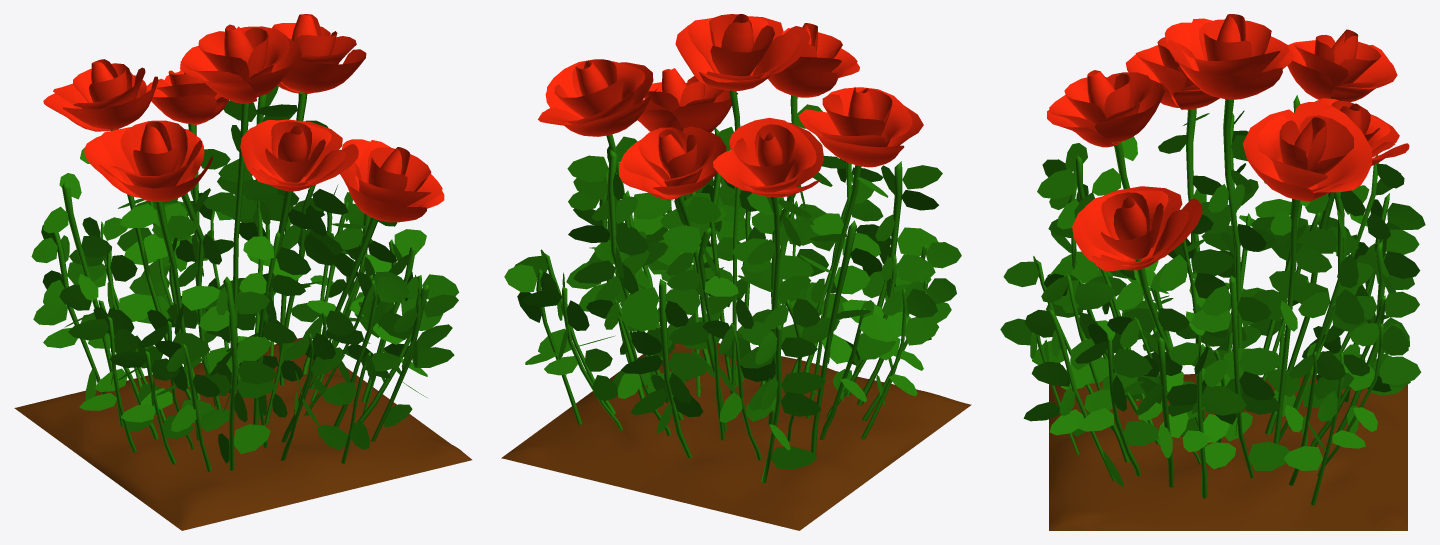
File: red-rose.glb
3 views of the same model, side by side, from view 1: azimuth 30°, elevation 25°; view 2: azimuth 150°, elevation 25°; view 3: azimuth 270°, elevation 25° (orthographic). The views are drawn at different scales.
Parts seen in each view (by area): view 1: 4_nft_bloom; view 2: 4_nft_bloom; view 3: 4_nft_bloom.
Part boxes in pixels (x1,y1,x2,y2): 4_nft_bloom: (14, 14, 471, 530); 4_nft_bloom: (501, 14, 971, 530); 4_nft_bloom: (1000, 14, 1425, 530).
Size of the model in its own units: 0.8619 by 0.9393 by 0.8292.
